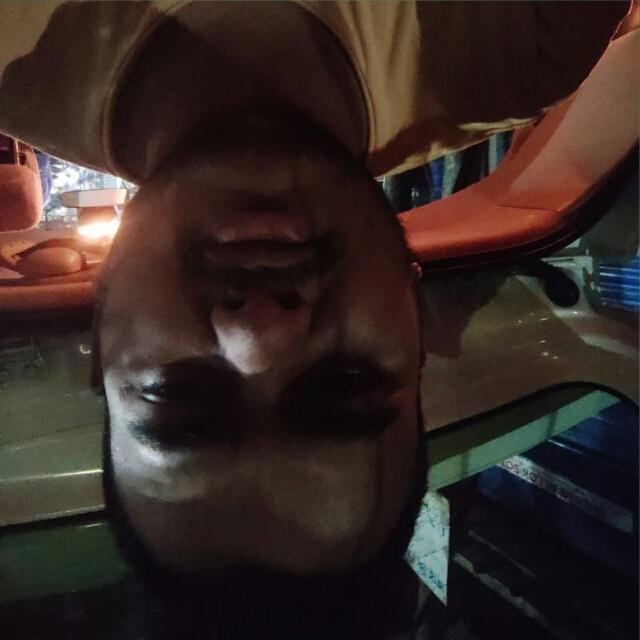Disgust: (59, 116, 544, 640)
